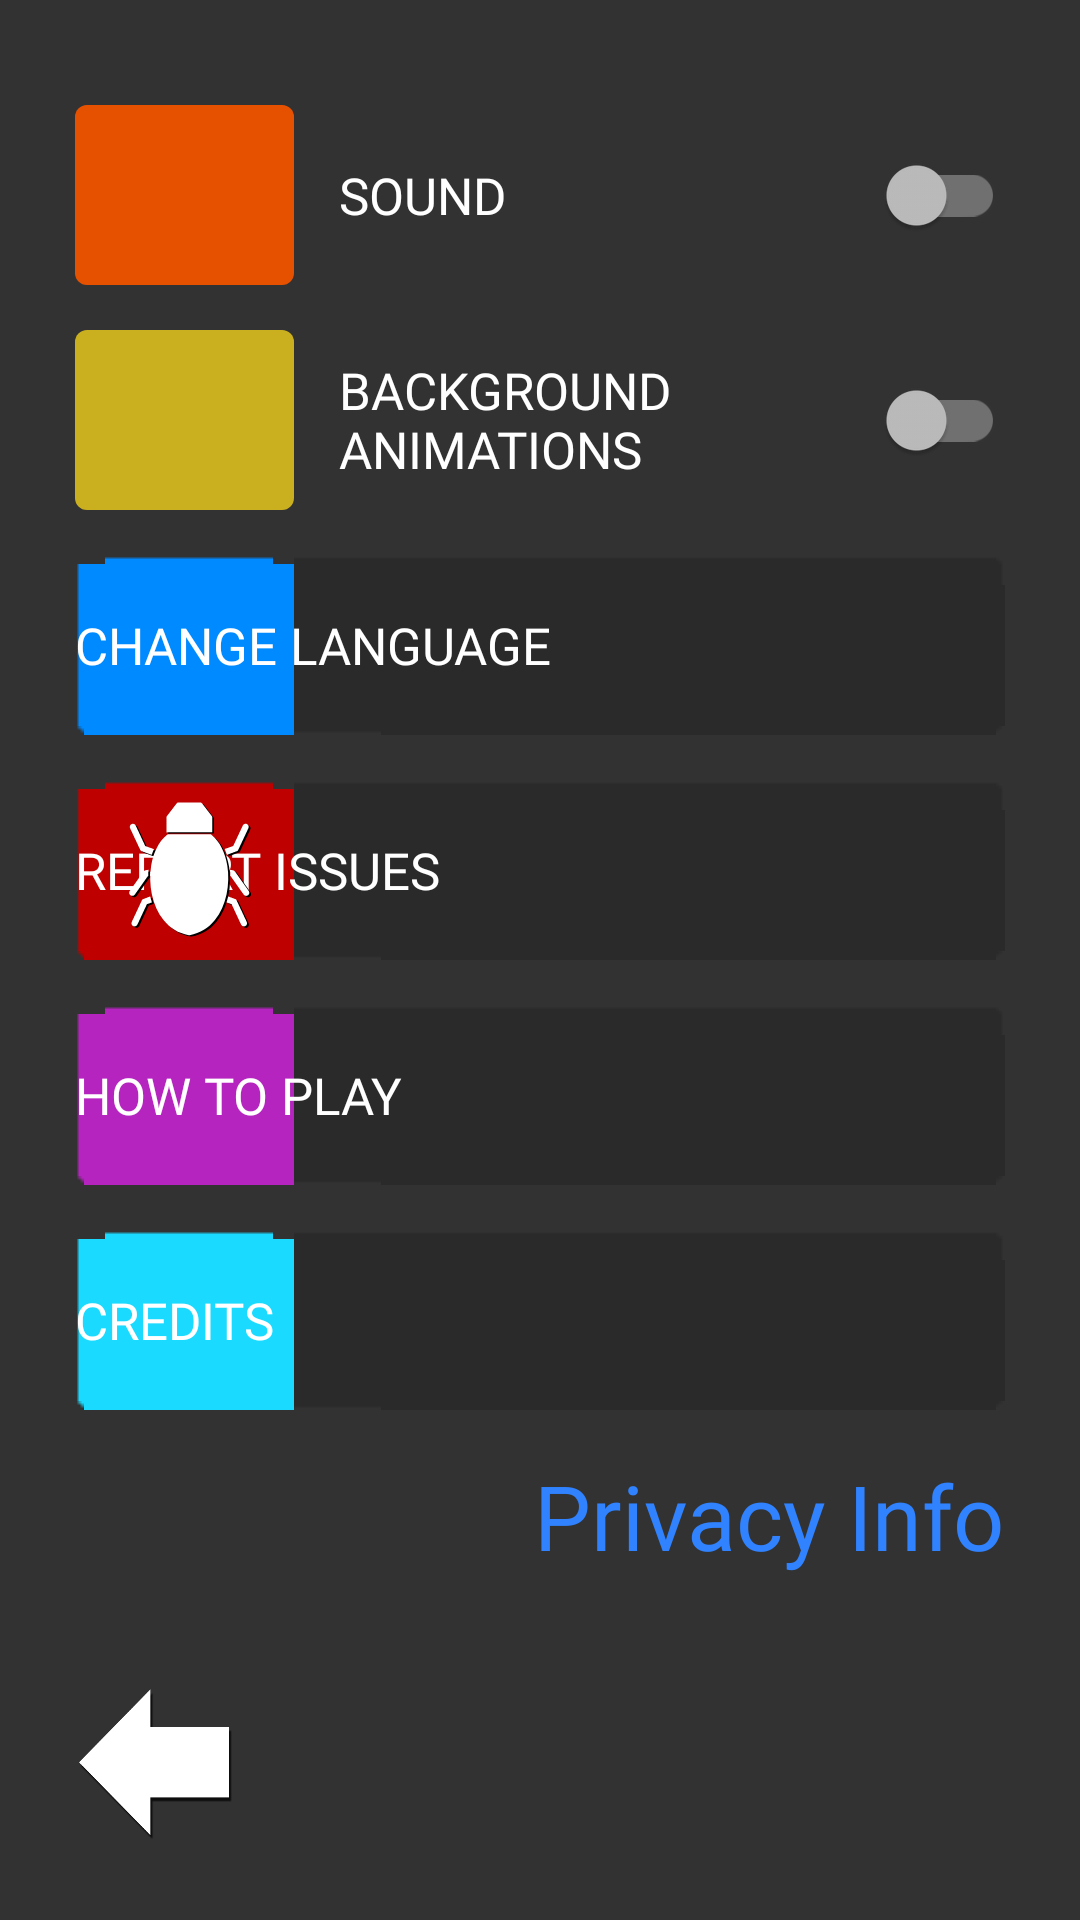

Named icons in this screenshot (1080w x 1920h) and their centers, (x,y):
helper bug: (191,871)
helper exit: (155,1763)
